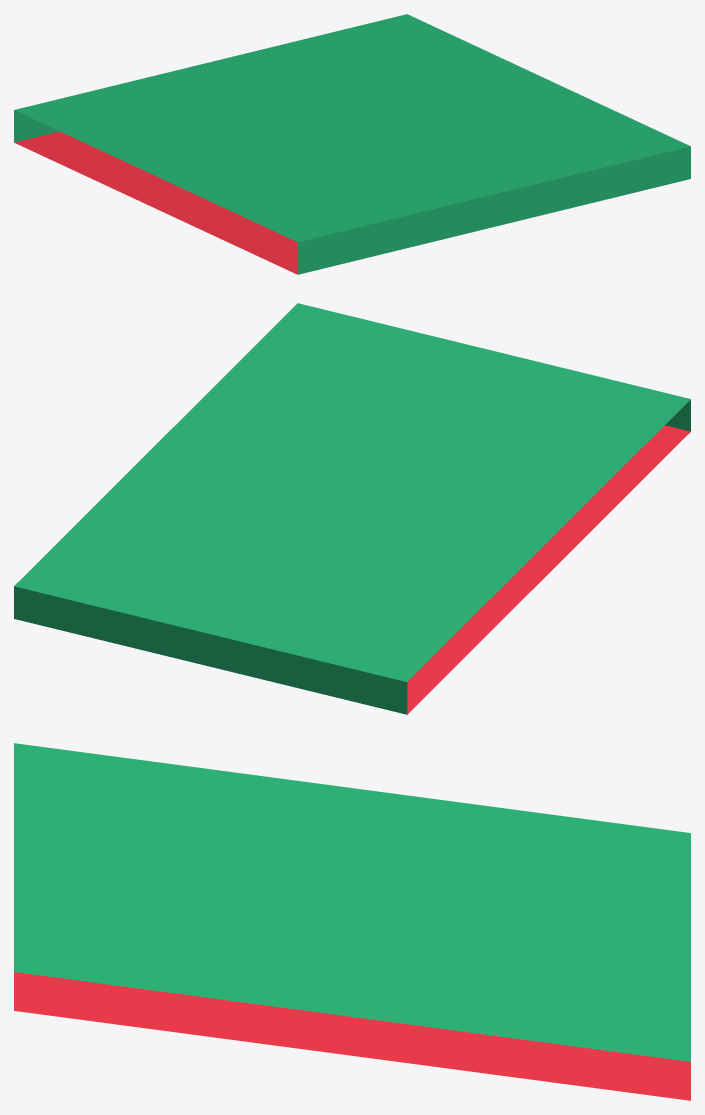
Rendered from RampA (Grass).fbx.
The picture shows the model from 3 angles, top to bottom: view 1: azimuth 30°, elevation 25°; view 2: azimuth 150°, elevation 25°; view 3: azimuth 270°, elevation 25°; orthographic projection. The views are drawn at different scales.
Parts seen in each view (by area): view 1: rampA001; view 2: rampA001; view 3: rampA001.
Boxes of the visible parts, left/top/right/bottom form: rampA001: left=14, top=14, right=690, bottom=274; rampA001: left=14, top=303, right=690, bottom=714; rampA001: left=14, top=743, right=690, bottom=1100.
Bounding box in the file's own units: 31.49 × 8.27 × 39.37.
